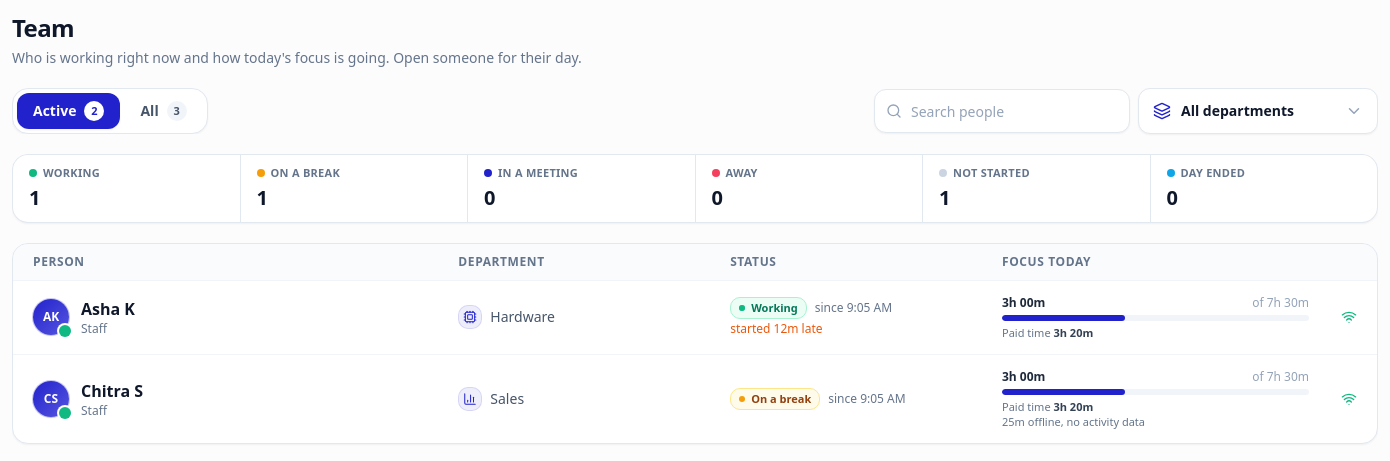
Test: TeamView › filters by search
The image size is (1390, 461).
Expected: the list is shown, [13,280,1377,443]
Step 1. Type "chit" into the search field labelled "Search people" → (1002, 111), box [874,89,1130,133]
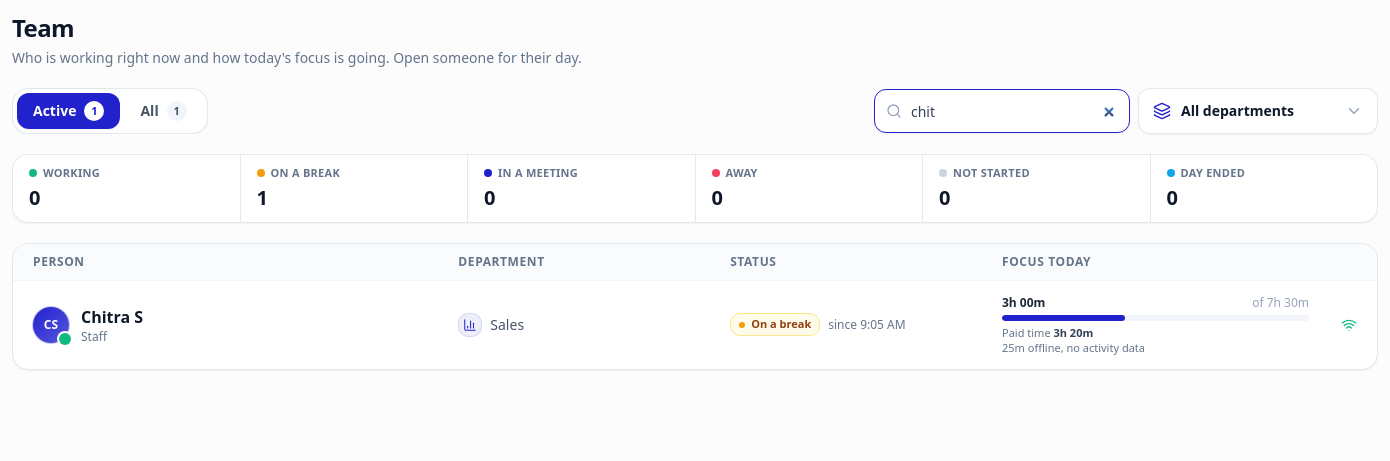
Expected: the text "Chitra S" is shown, [81,306,143,328]
Result: the link "Asha K" is gone
